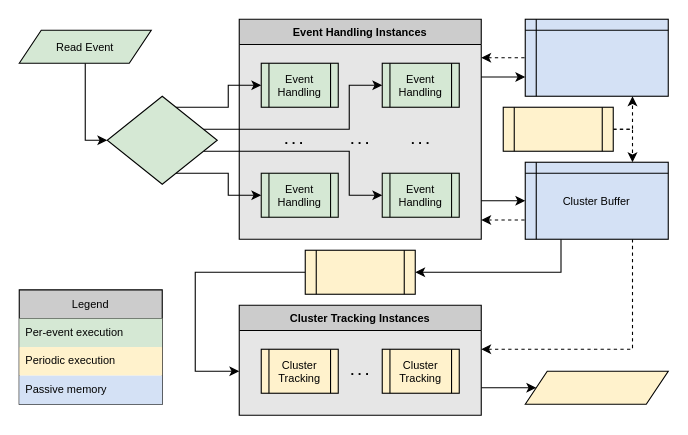
Image size: 688x435. Some labels were removed from this diagram. Each missing label, with the centre of its shape:
"Buffer Flushing" goes at pixel 557 128.
"Cluster Sorting" goes at pixel 359 271.
"Event Buffer" goes at pixel 596 57.
"Output Detection" goes at pixel 596 387.
"Partitioning" goes at pixel 161 139.
